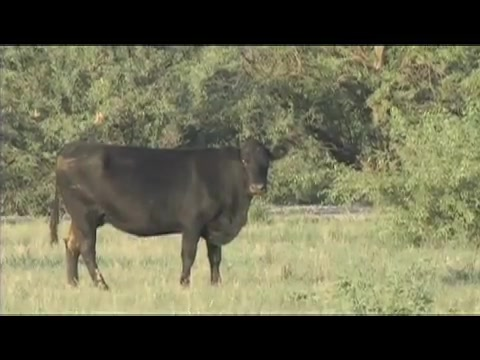cow: (48, 142, 291, 292)
